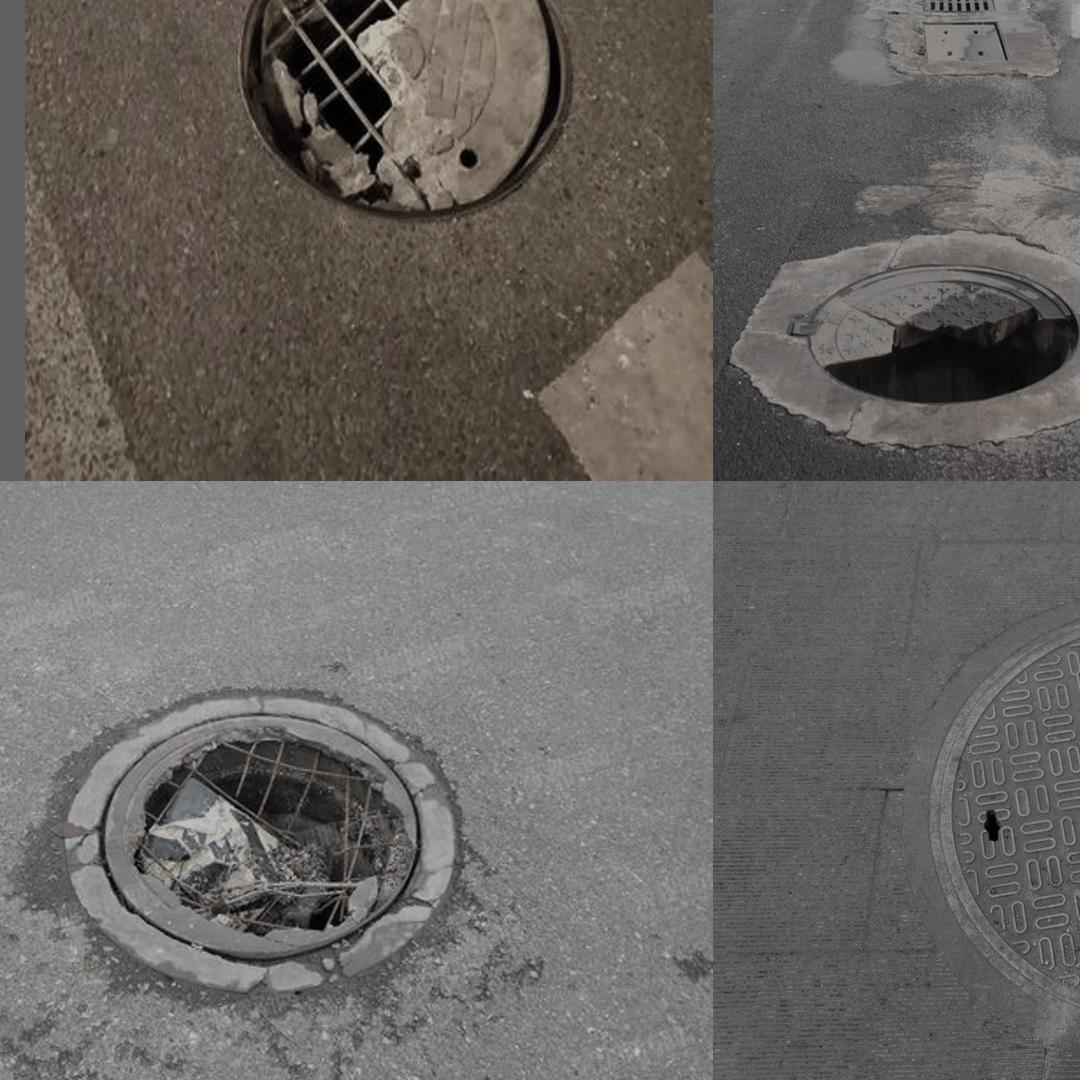broke: (51, 674, 474, 994), (217, 0, 593, 233), (743, 200, 1080, 458), (928, 601, 1080, 1028)
